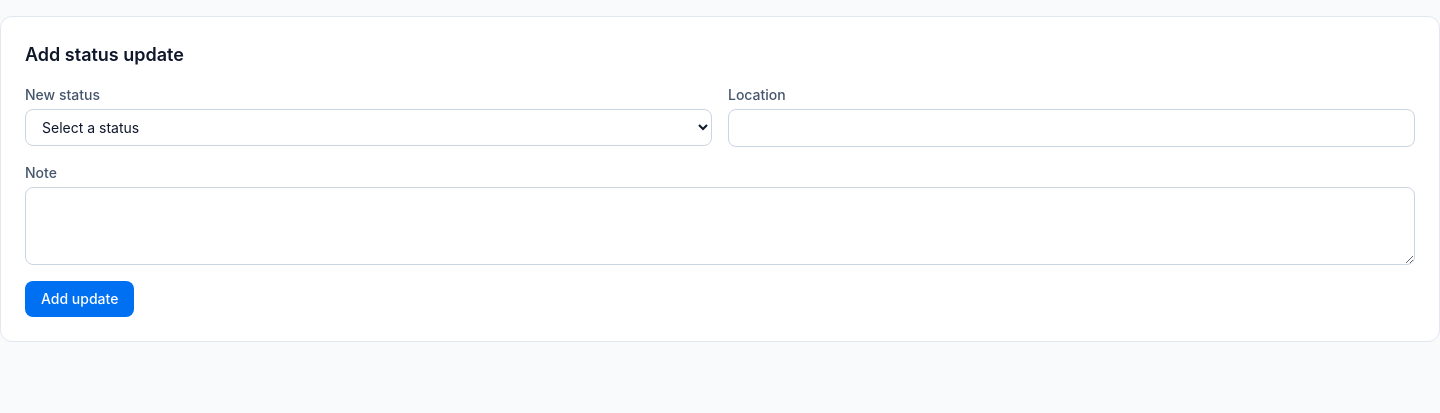
Test: StatusUpdateForm › explains an illegal transition, clears the status and invalidates the detail
Select "At warehouse" in the dropdown labelled "New status" at (368, 128), box [25,109,712,146]
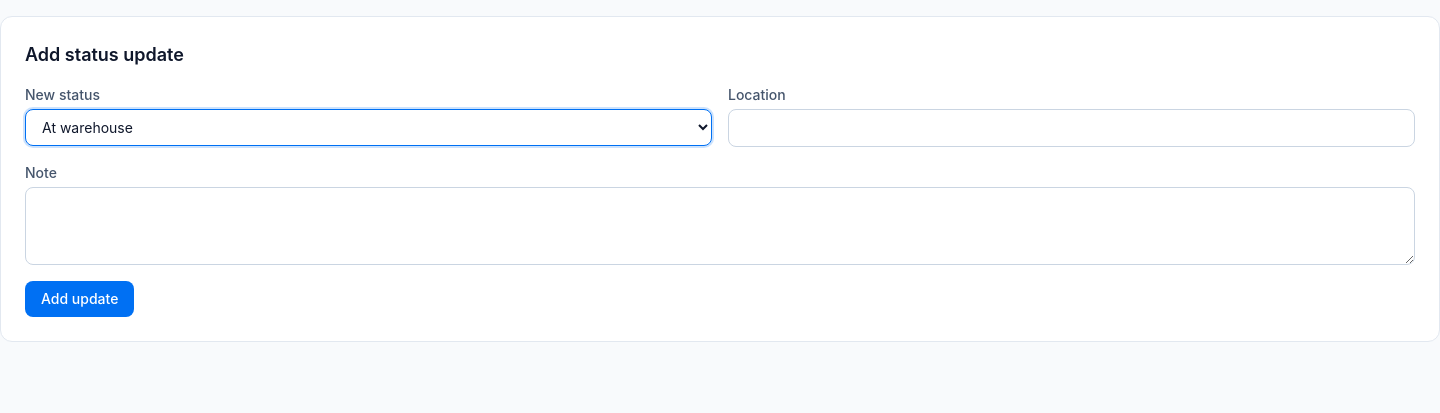
Type "Kharkiv hub" into the field labelled "Location".
click(1072, 128); type("Kharkiv hub")  # box [728,109,1415,147]
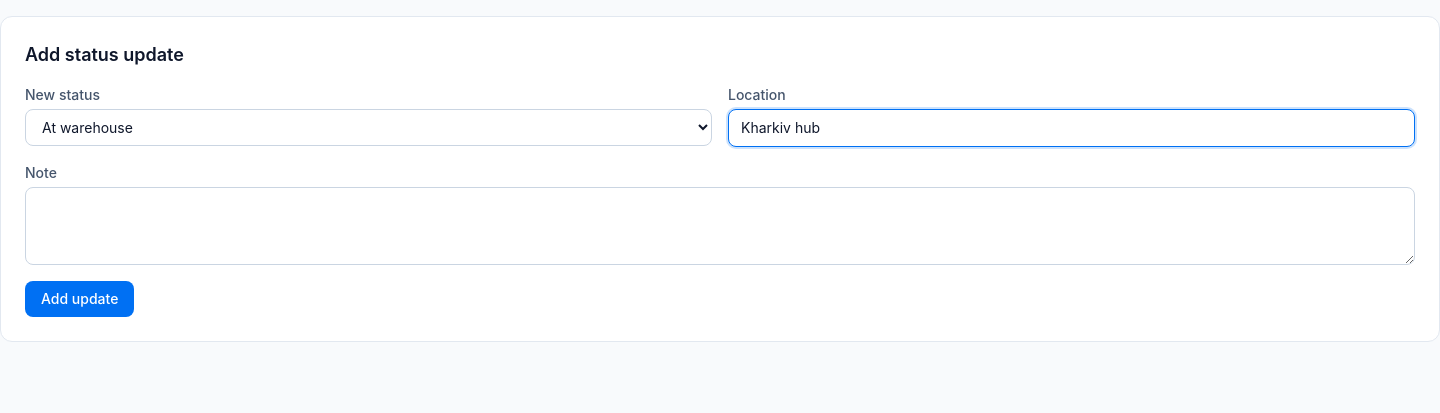
Click the button "Add update".
click(80, 299)  # box [25,281,134,317]
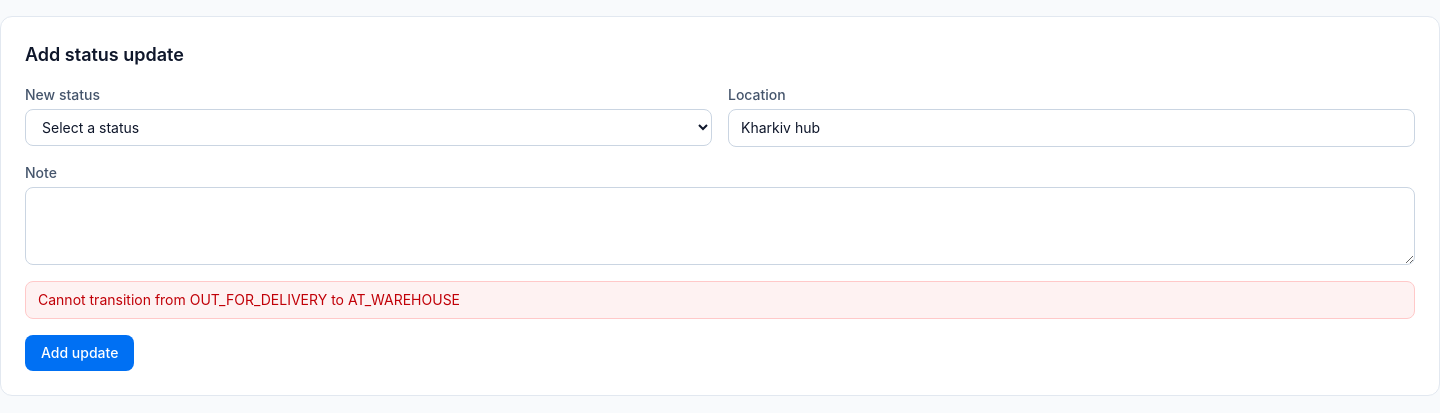
Now the message reads "Cannot transition from OUT_FOR_DELIVERY to AT_WAREHOUSE", box [38,291,460,308]
